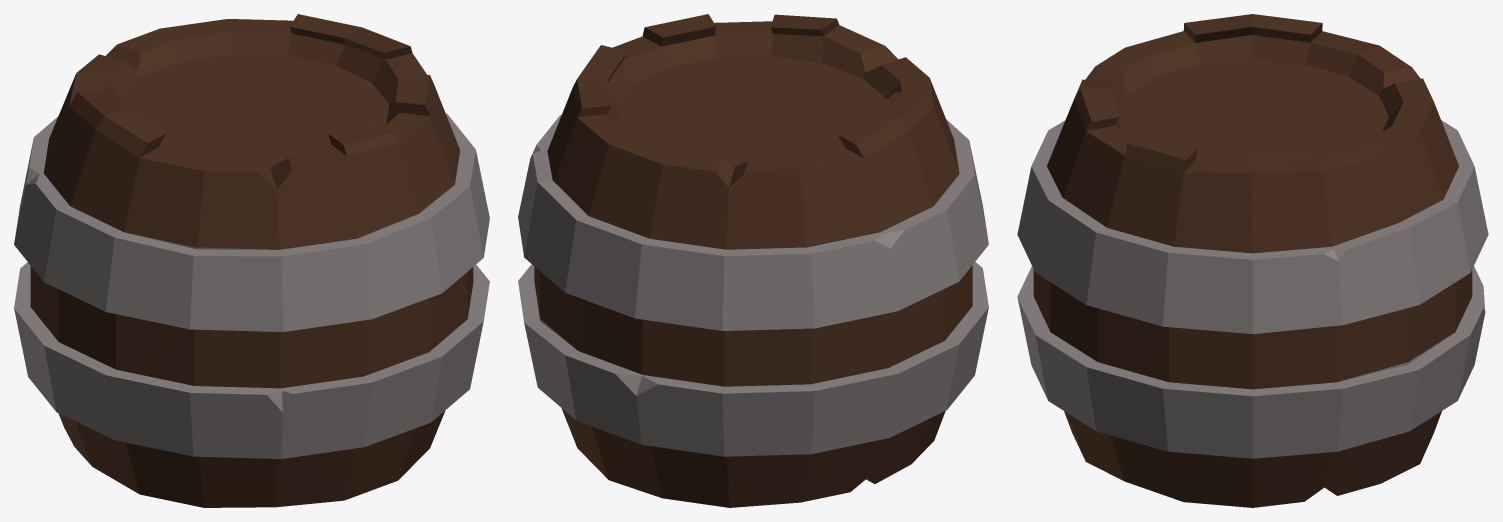
File: Barrel.glb
3 renders of one model, left to right at view 1: azimuth 30°, elevation 25°; view 2: azimuth 150°, elevation 25°; view 3: azimuth 270°, elevation 25°, orthographic.
Parts seen in each view (by area): view 1: Cylinder; view 2: Cylinder; view 3: Cylinder.
Part boxes in pixels (left/top/right/bottom): Cylinder: left=14, top=14, right=489, bottom=507; Cylinder: left=518, top=14, right=988, bottom=507; Cylinder: left=1017, top=14, right=1488, bottom=507.
Bounding box in the file's own units: 2.6 × 2.13 × 2.6.
